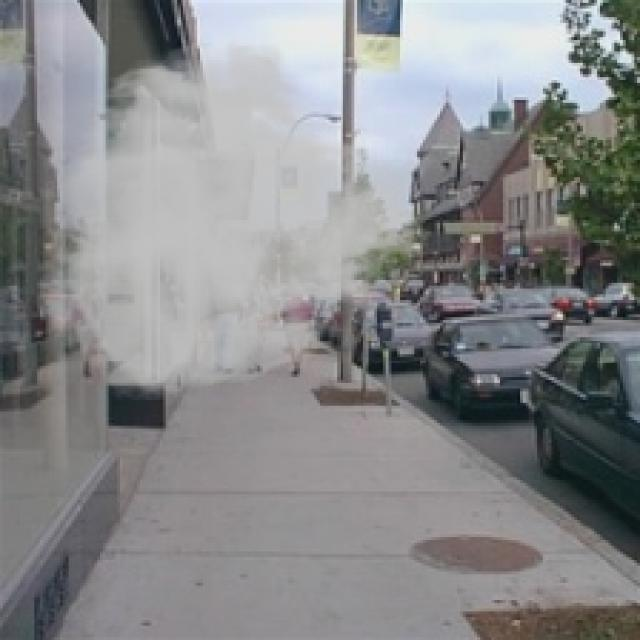Smoke: (37, 37, 437, 403)
